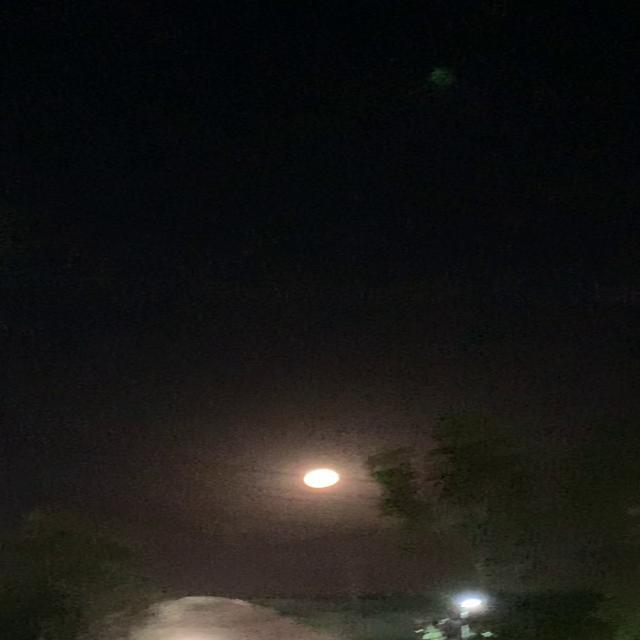moon: (286, 468, 340, 494)
